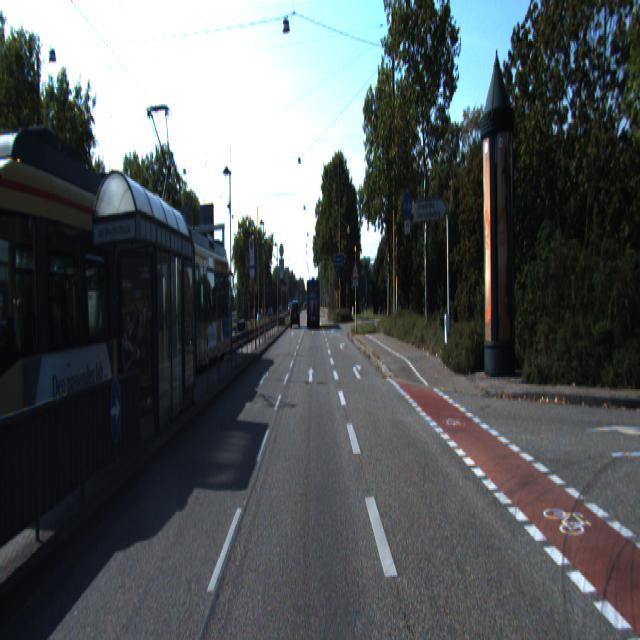Car: (0, 127, 202, 522), (166, 232, 237, 376), (306, 278, 321, 329), (290, 300, 300, 328)
